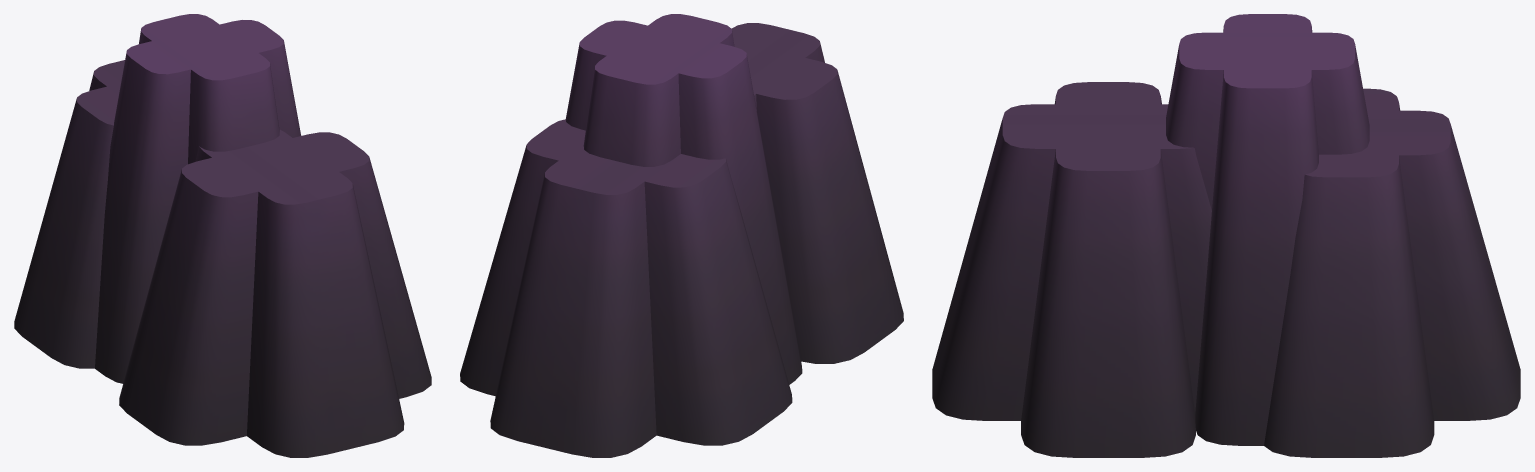
The model's file is Rock.FBX.
3 renders of one model, left to right at view 1: azimuth 30°, elevation 25°; view 2: azimuth 150°, elevation 25°; view 3: azimuth 270°, elevation 25°, orthographic. The views are drawn at different scales.
Parts seen in each view (by area): view 1: Object049; view 2: Object049; view 3: Object049.
Part boxes in pixels (left/top/right/bottom): Object049: left=14, top=14, right=431, bottom=457; Object049: left=460, top=14, right=903, bottom=457; Object049: left=932, top=14, right=1520, bottom=457.
Size of the model in its own units: 1542 by 1614 by 2587.
Materials: 1 (1 with a texture image).
